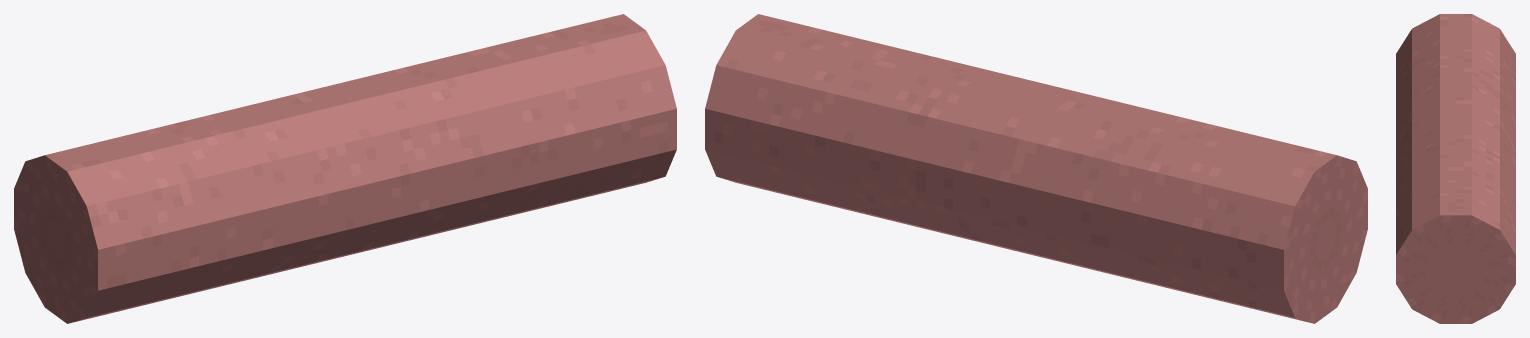
Rendered from hotdogs_frozen.glb.
3 views of the same model, side by side, from view 1: azimuth 30°, elevation 25°; view 2: azimuth 150°, elevation 25°; view 3: azimuth 270°, elevation 25° (orthographic). The views are drawn at different scales.
Parts seen in each view (by area): view 1: block_sausage; view 2: block_sausage; view 3: block_sausage.
Boxes of the visible parts, bbox=[...] form: block_sausage: bbox=[14, 14, 676, 323]; block_sausage: bbox=[705, 14, 1367, 323]; block_sausage: bbox=[1396, 14, 1515, 323].
Bounding box in the file's own units: 0.0805 × 0.0202 × 0.0202.
1 material, 1 textured.
